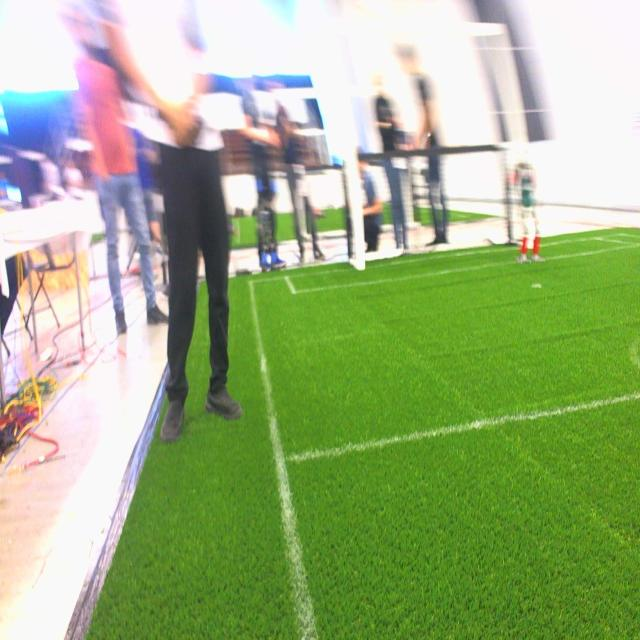goalpost: (311, 7, 370, 270), (486, 20, 530, 164)
